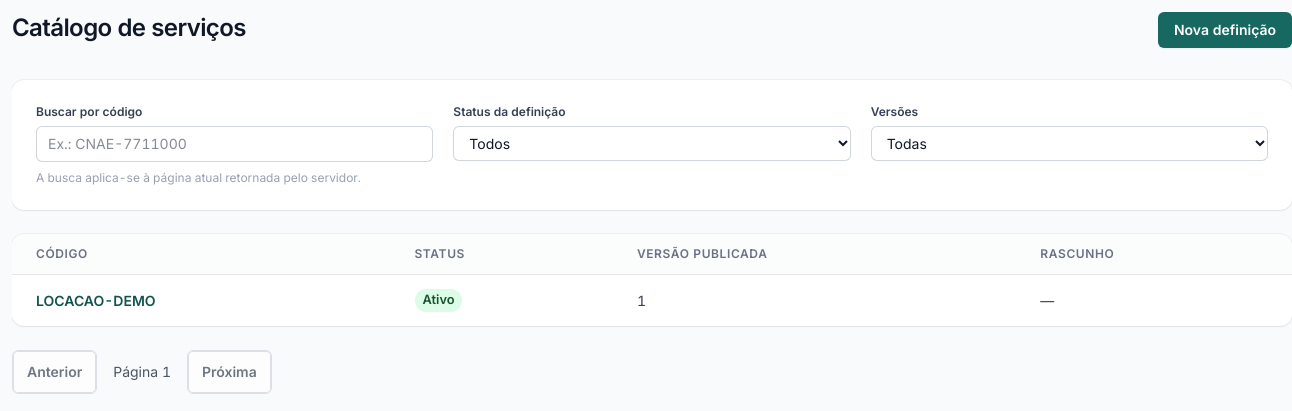
ServiceDefinitionsListPage integration › loads catalog definitions and filters by code on the current page
The image size is (1292, 411).
Check: the link "LOCACAO-DEMO" is shown, box [36,292,156,308]
Type "UNKNOWN" into the search field labelled "Buscar por código" at [235, 144], box [36,126,433,162]
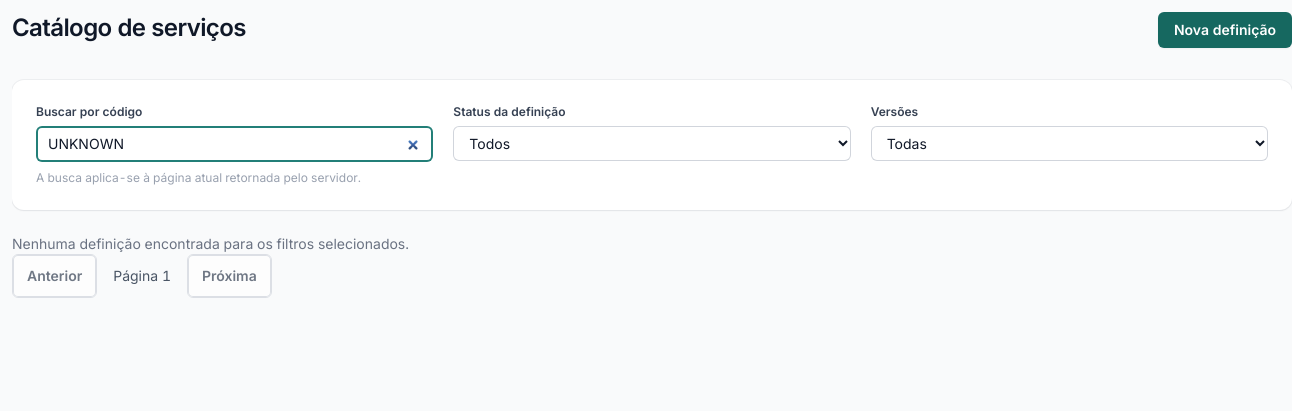
Check: the message shows "Nenhuma definição encontrada", box [12,235,409,252]
